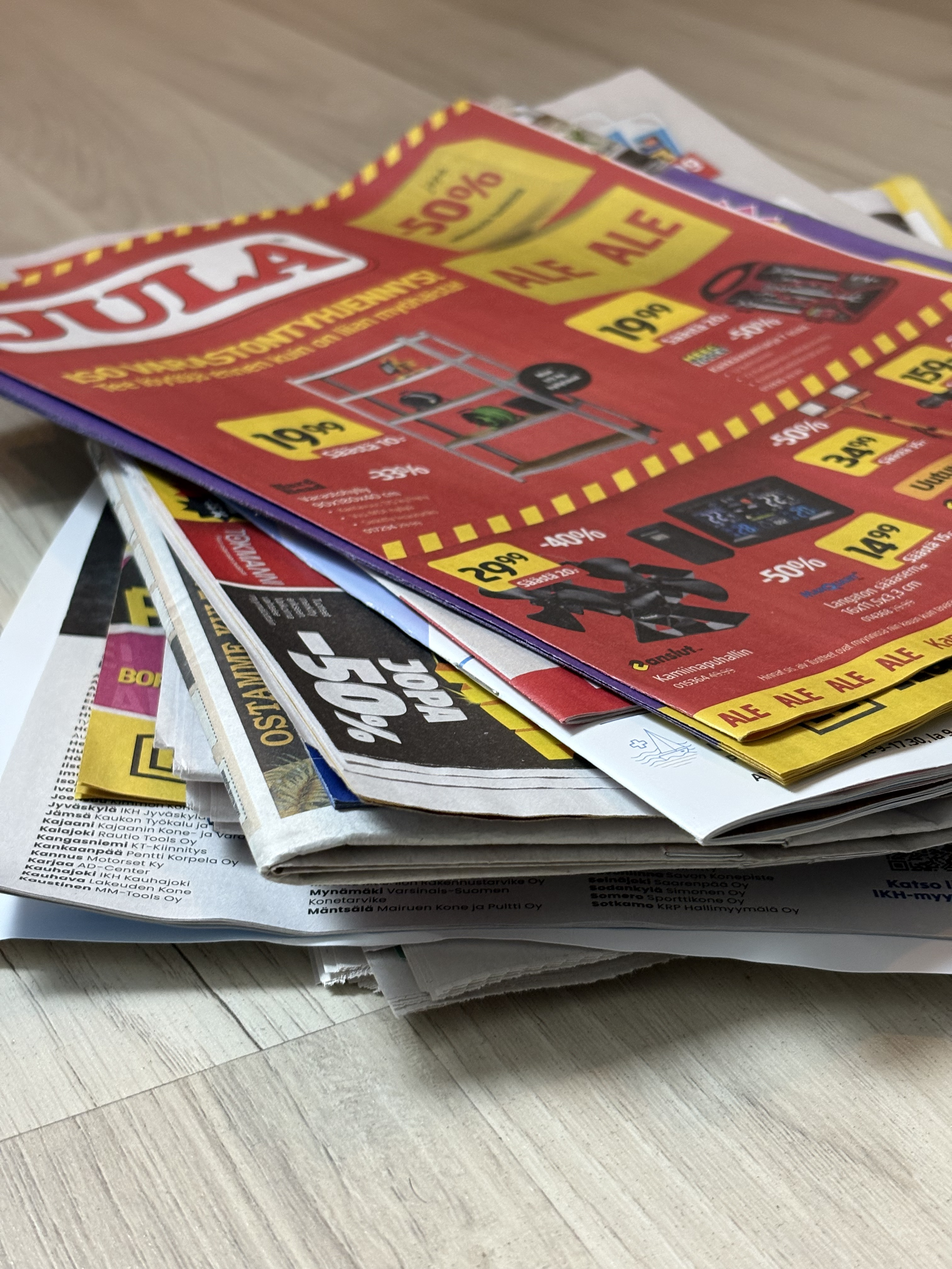paper: (6, 66, 948, 1011)
